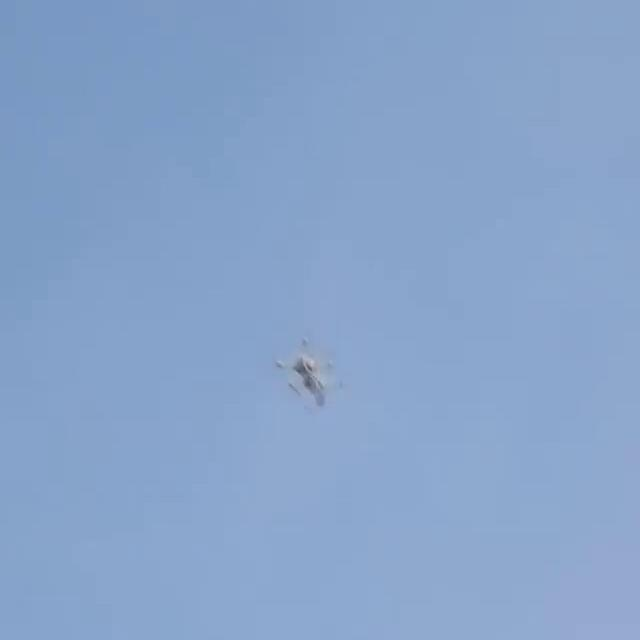drone: (272, 339, 348, 413)
